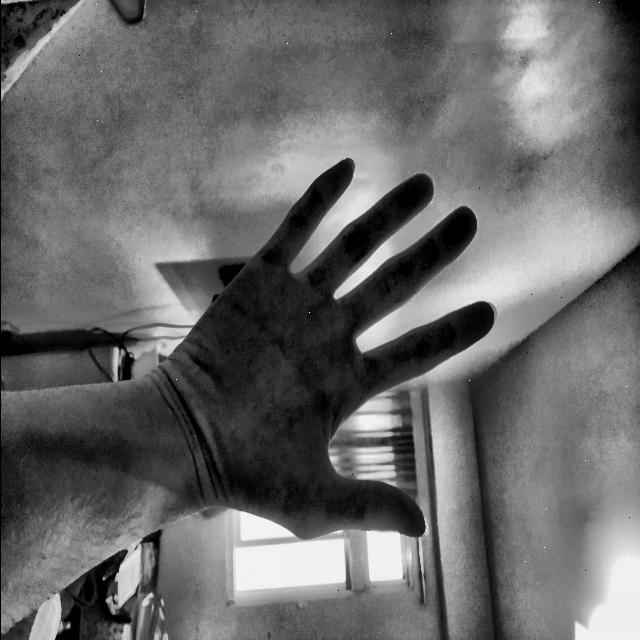not-gloved: (128, 145, 505, 552)
